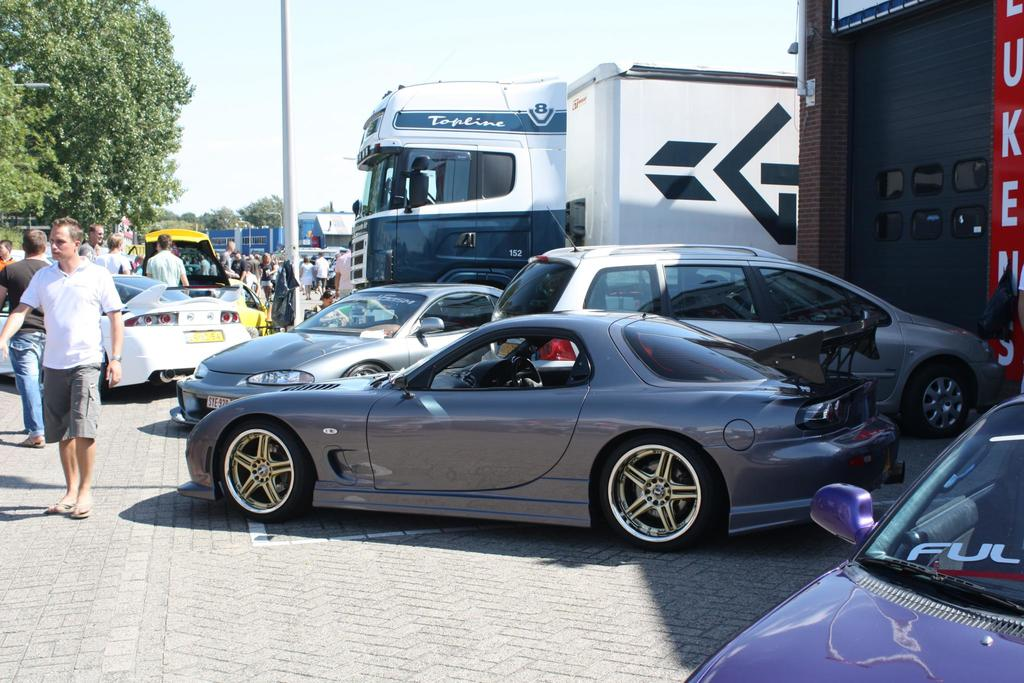Car: (175, 310, 907, 554), (487, 204, 999, 434), (728, 426, 1017, 669), (167, 280, 504, 427), (0, 271, 250, 393), (141, 225, 272, 333), (298, 246, 341, 283)
